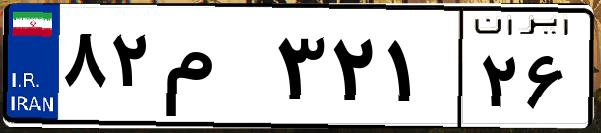1: (385, 28, 445, 110)
2: (330, 28, 385, 110), (475, 38, 525, 113), (110, 28, 158, 98)
3: (270, 28, 330, 110)
6: (525, 38, 570, 115)
8: (57, 26, 110, 100)
م: (158, 20, 270, 120)
